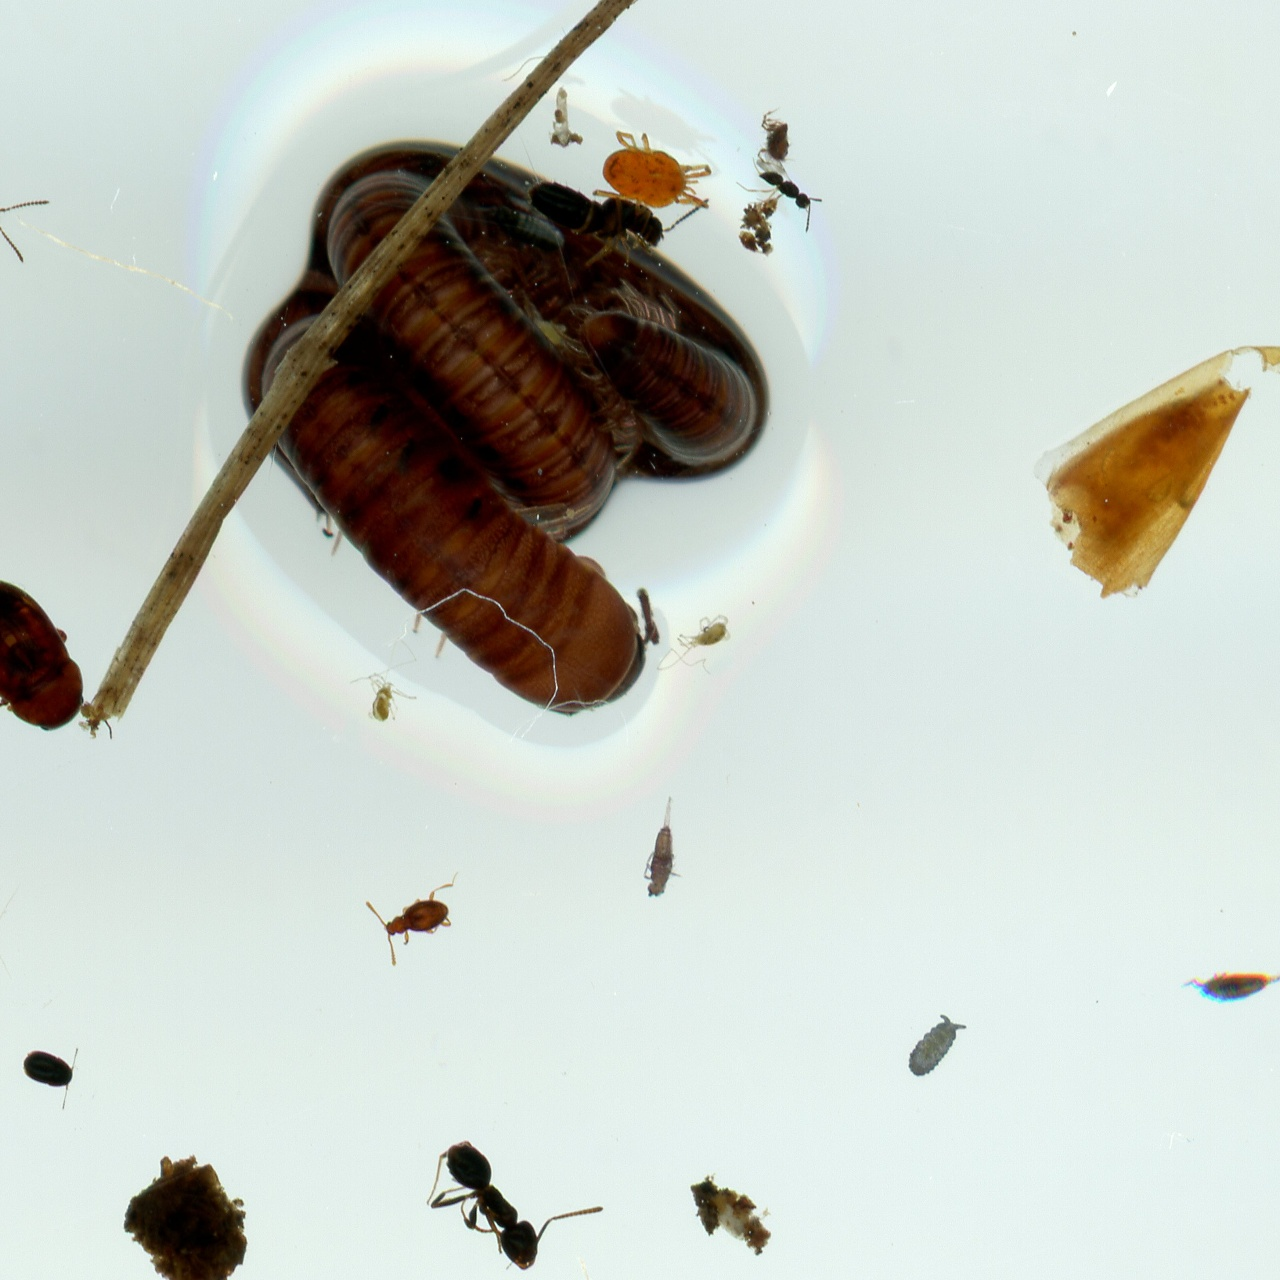arthropod: (244, 137, 765, 712), (427, 1142, 602, 1273), (0, 564, 84, 733), (531, 181, 665, 265), (366, 870, 467, 967), (591, 130, 713, 210), (738, 157, 824, 231), (0, 142, 50, 263), (353, 635, 417, 720), (656, 610, 733, 676), (642, 795, 683, 898), (906, 1013, 968, 1078), (21, 1043, 82, 1109), (1179, 972, 1280, 1001), (761, 105, 795, 155)
